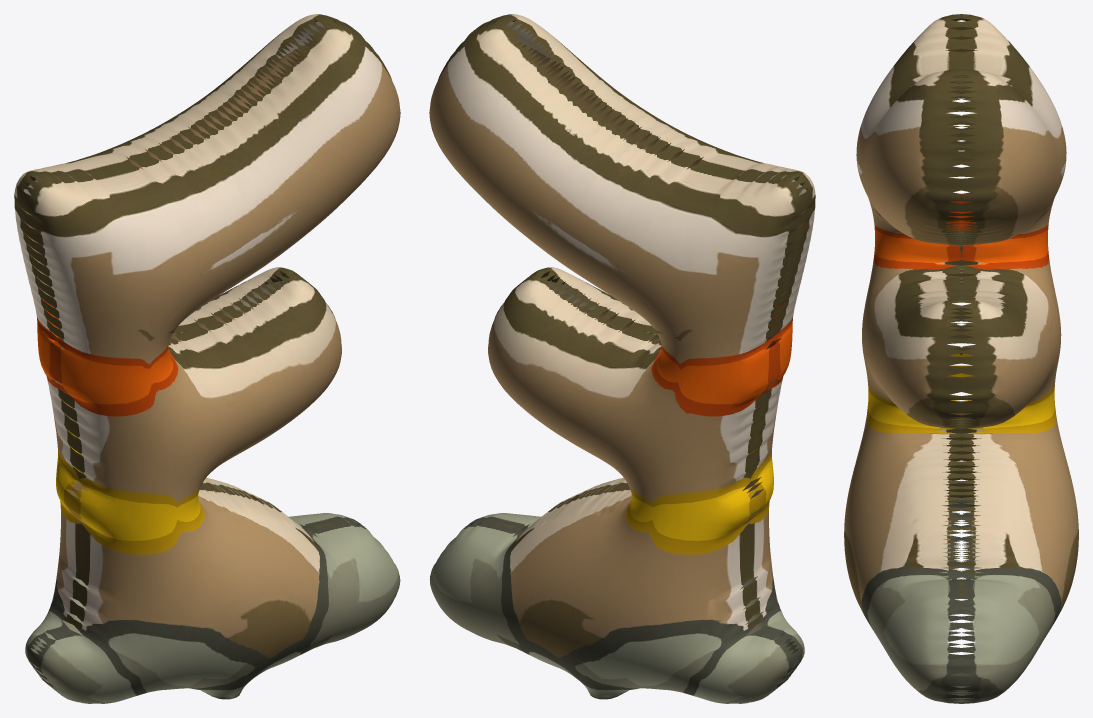
File: curved_guard.glb
The picture shows the model from 3 angles, left to right: view 1: azimuth 30°, elevation 25°; view 2: azimuth 150°, elevation 25°; view 3: azimuth 270°, elevation 25°; orthographic projection. The views are drawn at different scales.
Visible parts, largest first — view 1: curved_guard; view 2: curved_guard; view 3: curved_guard.
Part boxes in pixels (x1,y1,x2,y2): curved_guard: [14, 14, 400, 703]; curved_guard: [429, 14, 815, 703]; curved_guard: [844, 14, 1078, 703].
Bounding box in the file's own units: 0.9822 × 1.59 × 0.5334.
Materials: 1 (1 with a texture image).
